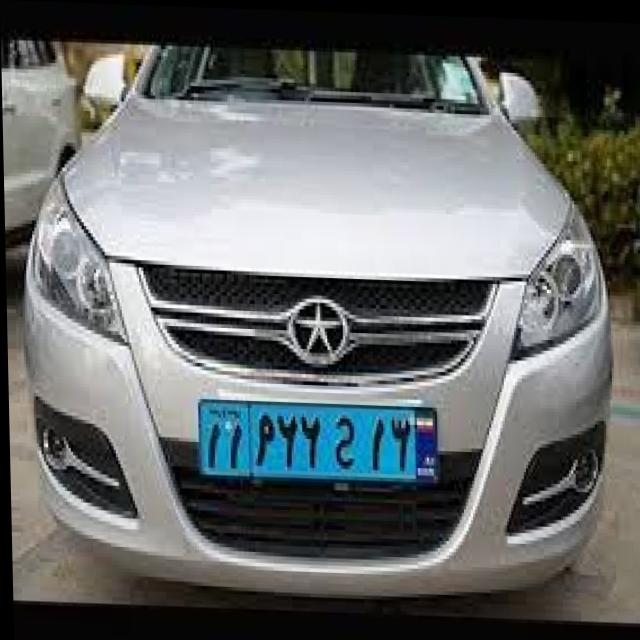licence: (198, 390, 441, 480)
